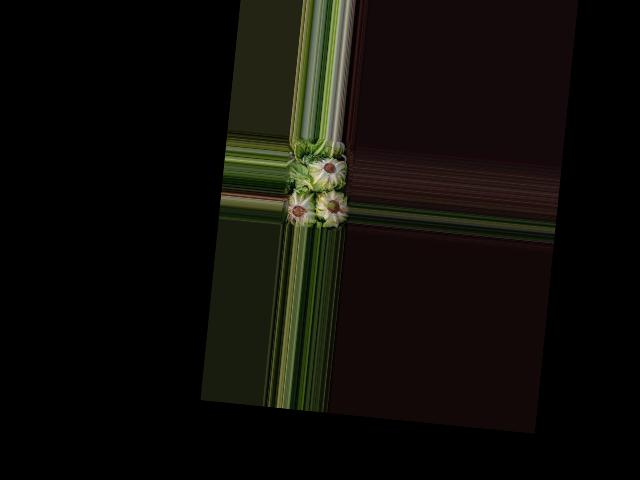lettuce: (284, 190, 318, 228)
